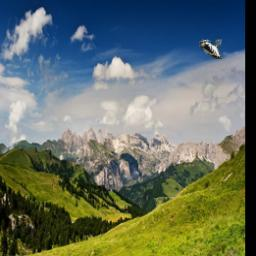Woodpecker: (200, 40, 223, 60)
